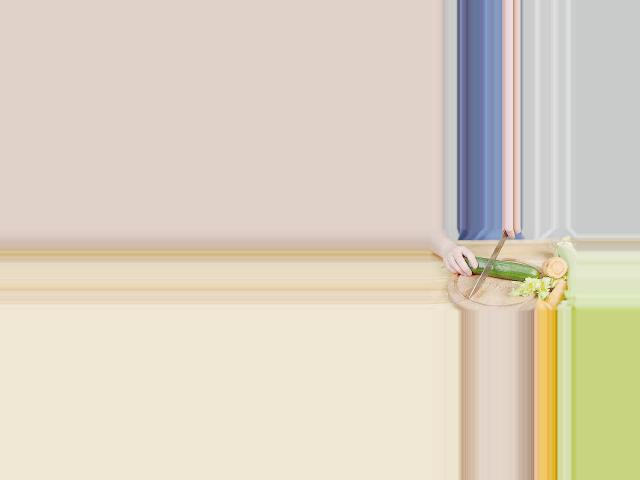cucumber: (463, 256, 540, 280)
